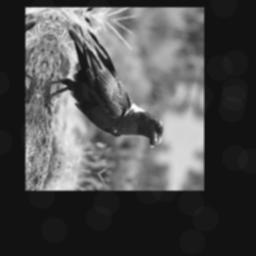Crow: (33, 20, 183, 153)
